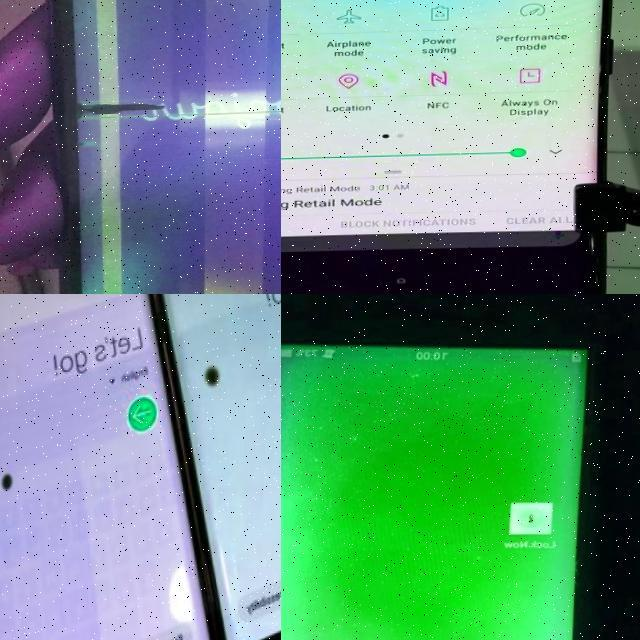dead pixel: (63, 89, 190, 123), (200, 361, 231, 396), (0, 461, 23, 501)
